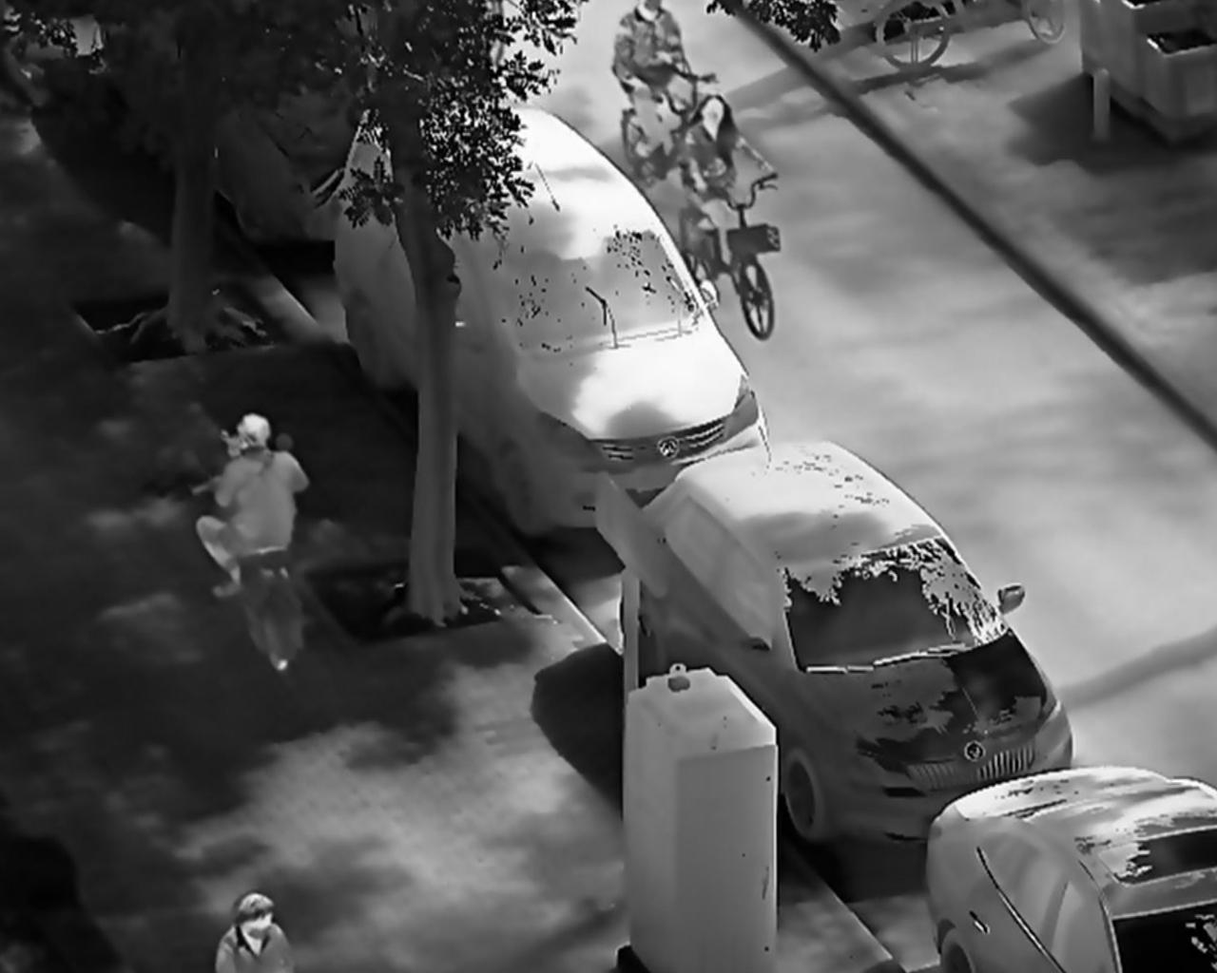person: (194, 413, 312, 602), (670, 92, 773, 283), (206, 890, 305, 970)
